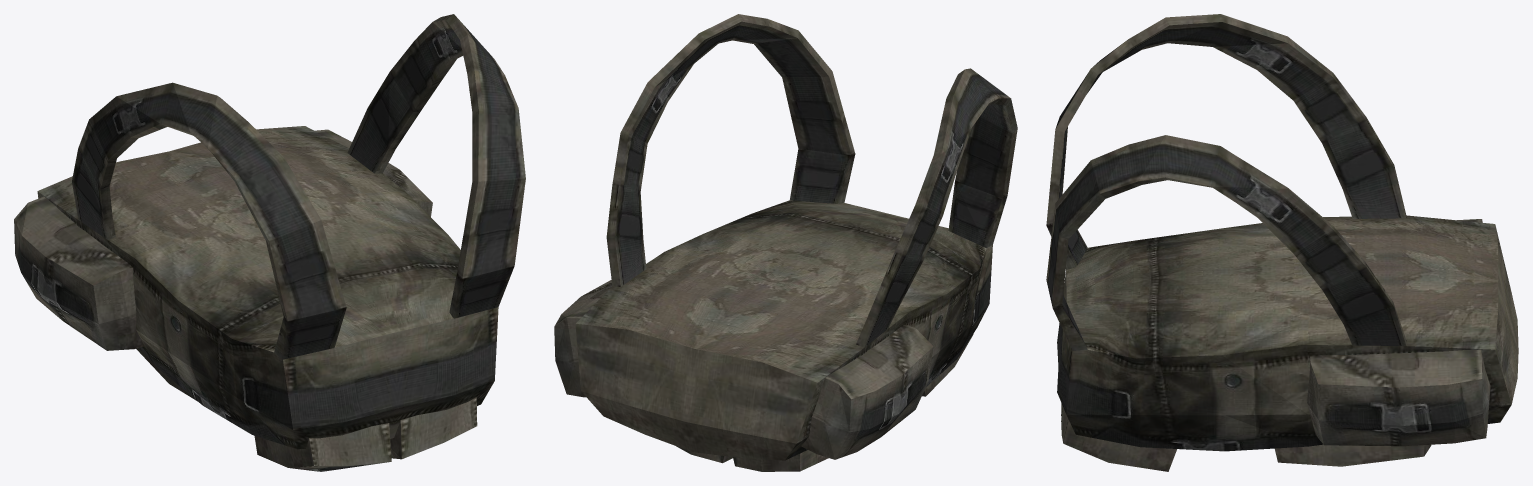
The model's file is backpack3.fbx.
The picture shows the model from 3 angles, left to right: view 1: azimuth 30°, elevation 25°; view 2: azimuth 150°, elevation 25°; view 3: azimuth 270°, elevation 25°; orthographic projection. The views are drawn at different scales.
Parts seen in each view (by area): view 1: Object_1.004; view 2: Object_1.004; view 3: Object_1.004.
Part boxes in pixels (x1,y1,x2,y2): Object_1.004: (14, 14, 525, 471); Object_1.004: (554, 14, 1017, 471); Object_1.004: (1046, 14, 1518, 471).
Size of the model in its own units: 43.47 by 44.43 by 52.02.
1 material, 1 textured.
